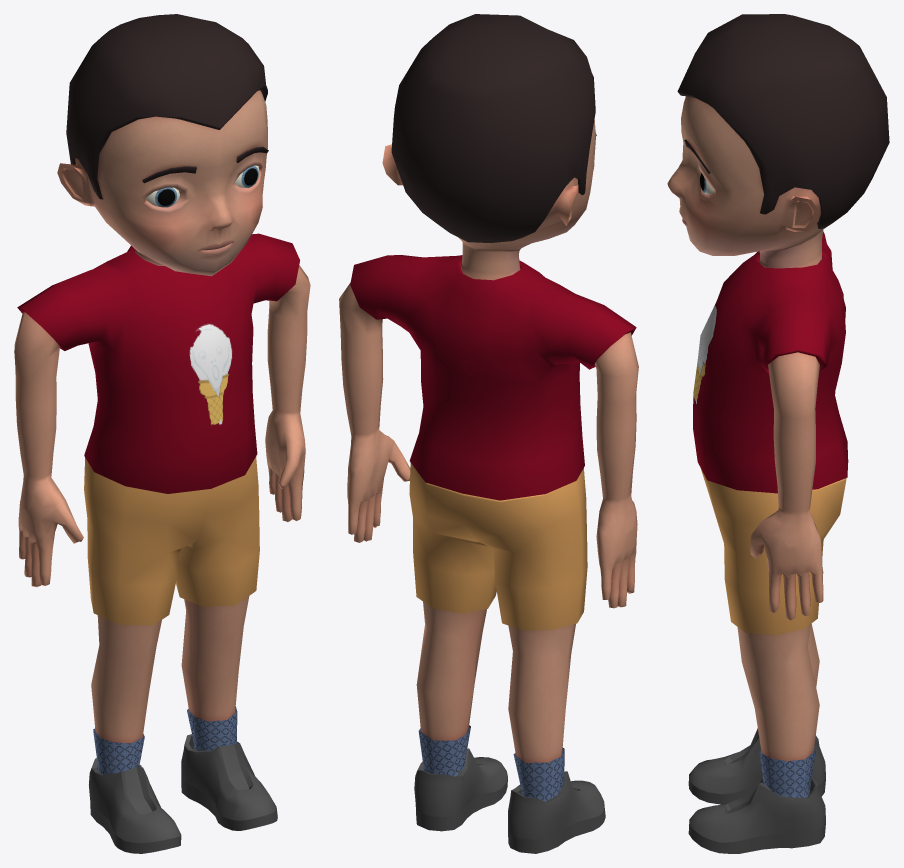
The model's file is kind_rood.glb.
The picture shows the model from 3 angles, left to right: view 1: azimuth 30°, elevation 25°; view 2: azimuth 150°, elevation 25°; view 3: azimuth 270°, elevation 25°; orthographic projection.
Visible parts, largest first — view 1: uploads_files_3390543_boy; view 2: uploads_files_3390543_boy; view 3: uploads_files_3390543_boy.
Part boxes in pixels (box(x1,y1,x2,y2)): uploads_files_3390543_boy: box(14, 14, 310, 853); uploads_files_3390543_boy: box(339, 14, 638, 853); uploads_files_3390543_boy: box(667, 14, 889, 853).
Size of the model in its own units: 49.14 by 126 by 32.04.
1 material, 1 textured.
